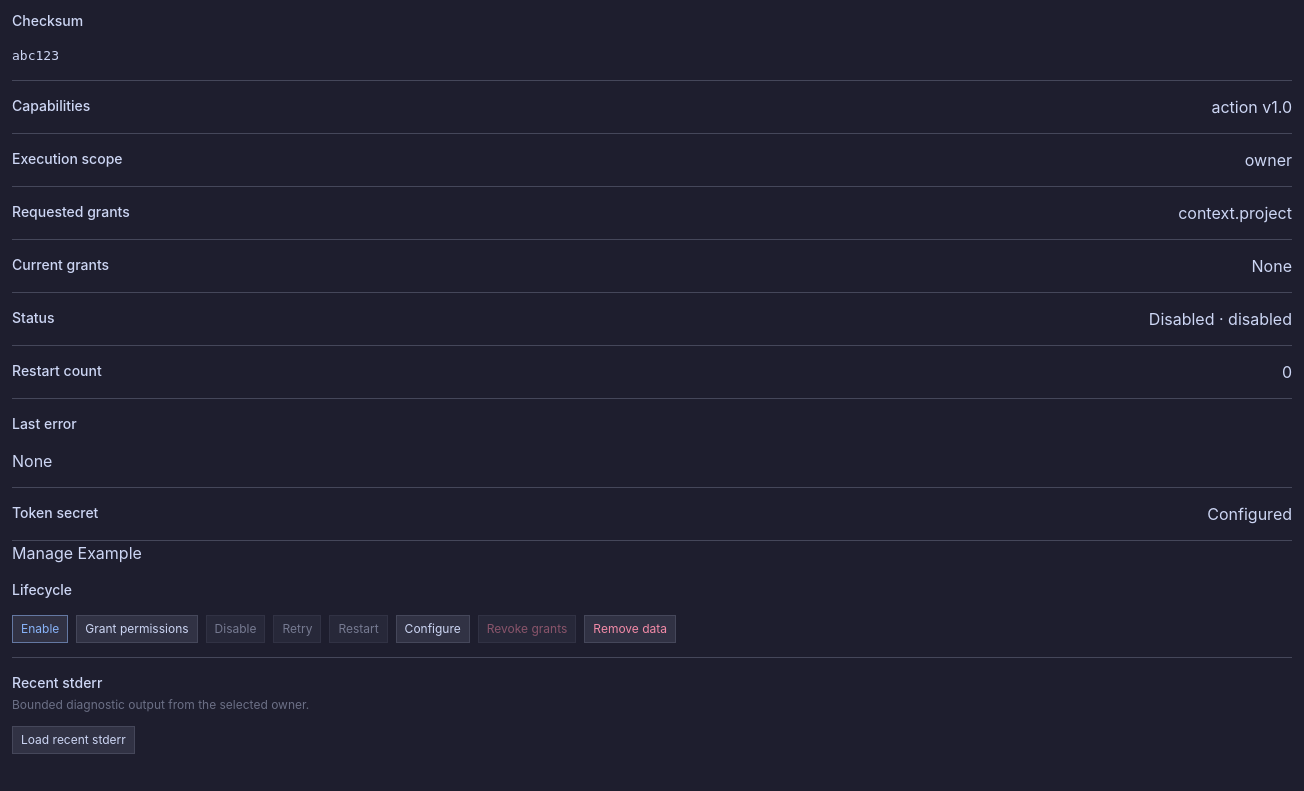
Test: shows bounded text-only stderr, empty logs, refresh and errors
The width and height of the screenshot is (1304, 791).
(page scrolled)
Click the button "Load recent stderr". click: (73, 740)
box: [12,726,135,754]
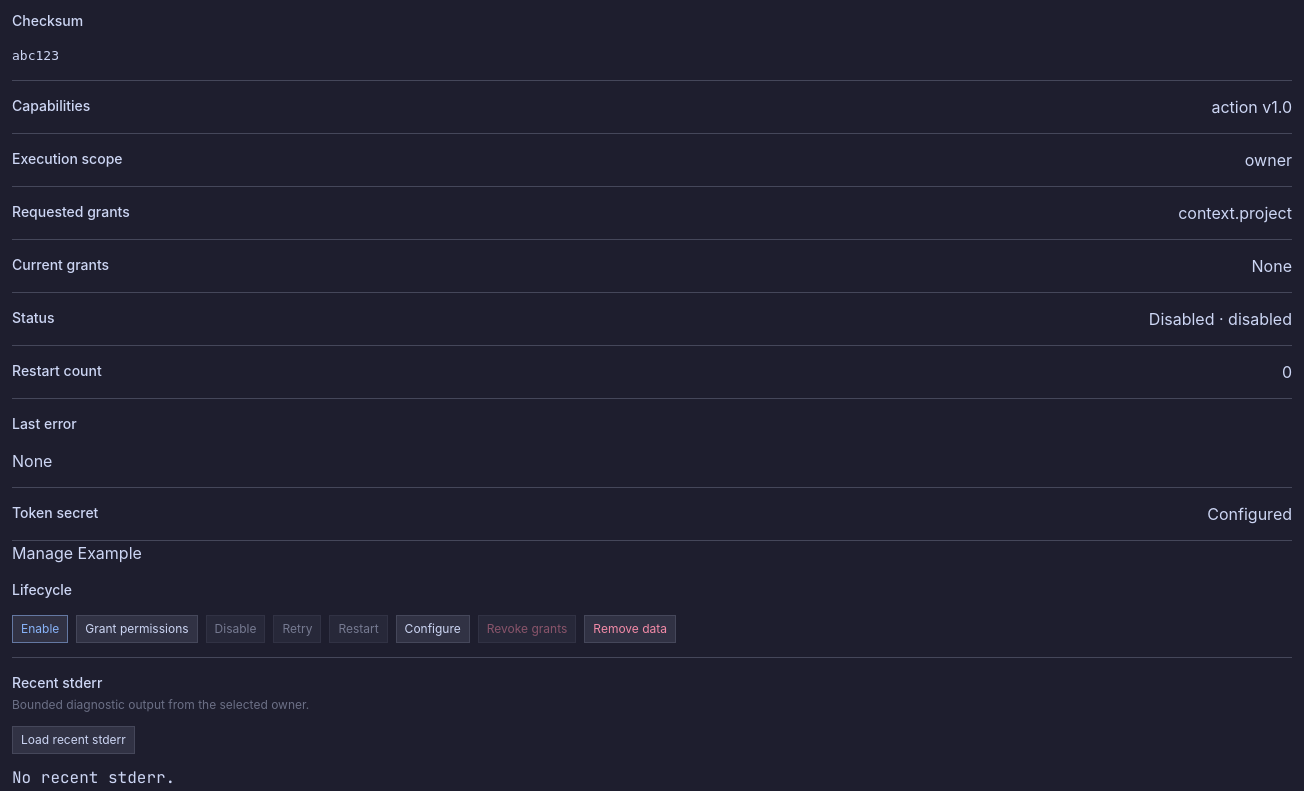
Expected: the text labelled "recent stderr" reads "No recent stderr.", [12,766,175,788]
Click the button "Load recent stderr". click: (73, 740)
box: [12,726,135,754]
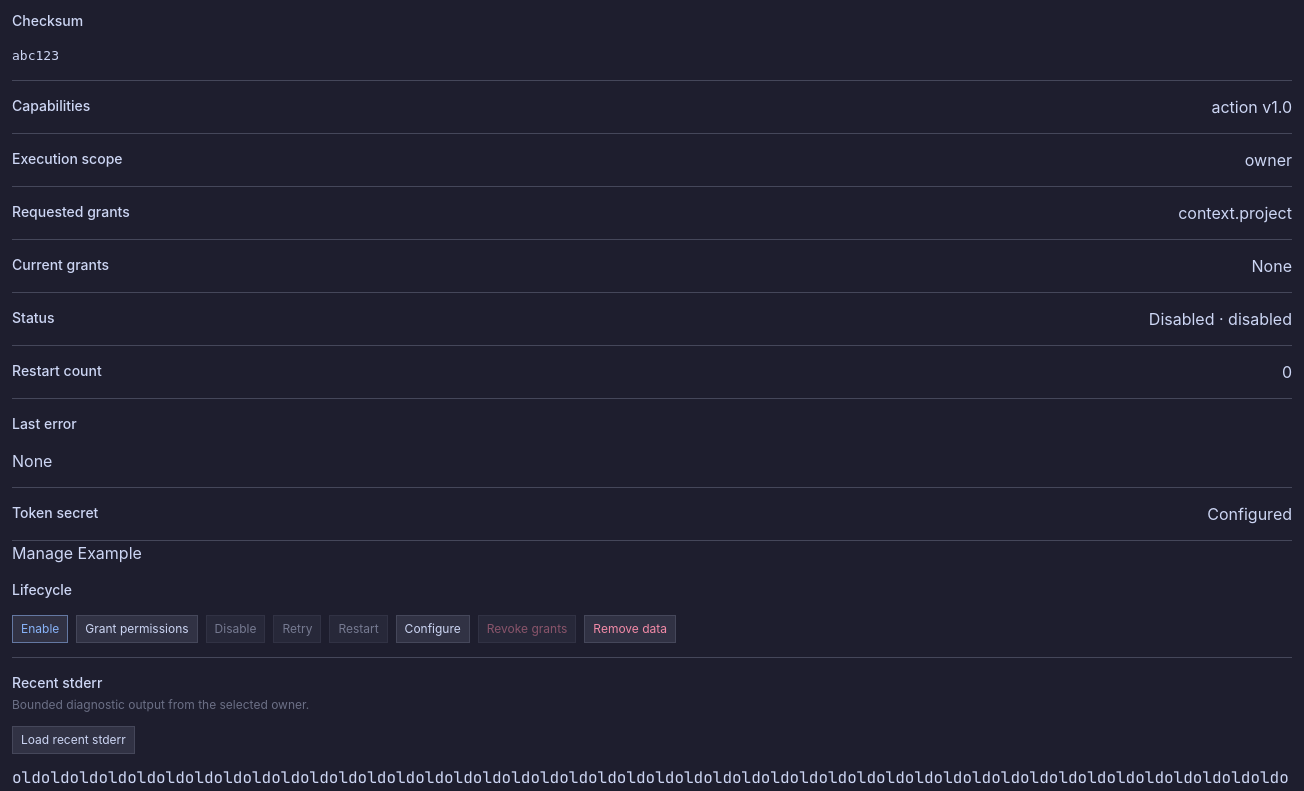
Click the button "Load recent stderr". click: (73, 740)
box: [12,726,135,754]
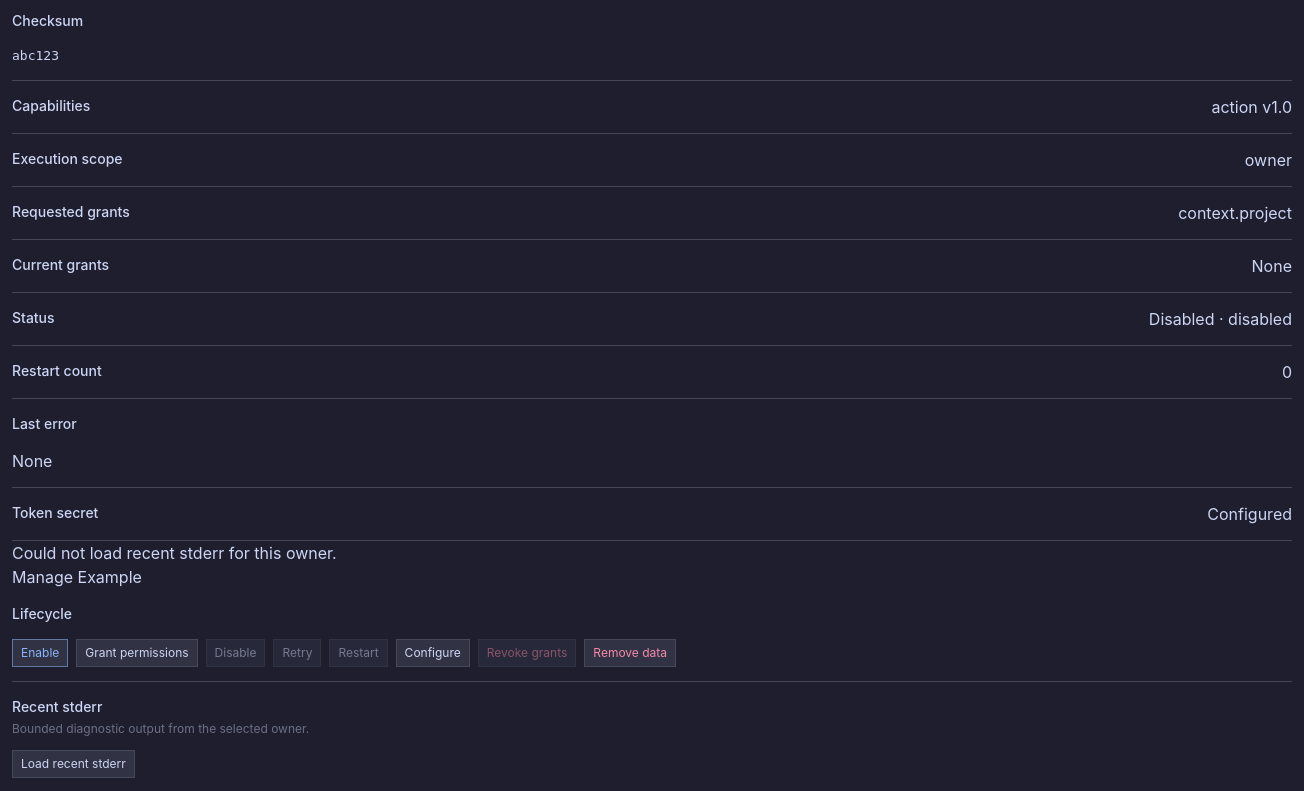
Expected: the message shows "Could not load recent stderr", [12,542,337,562]
